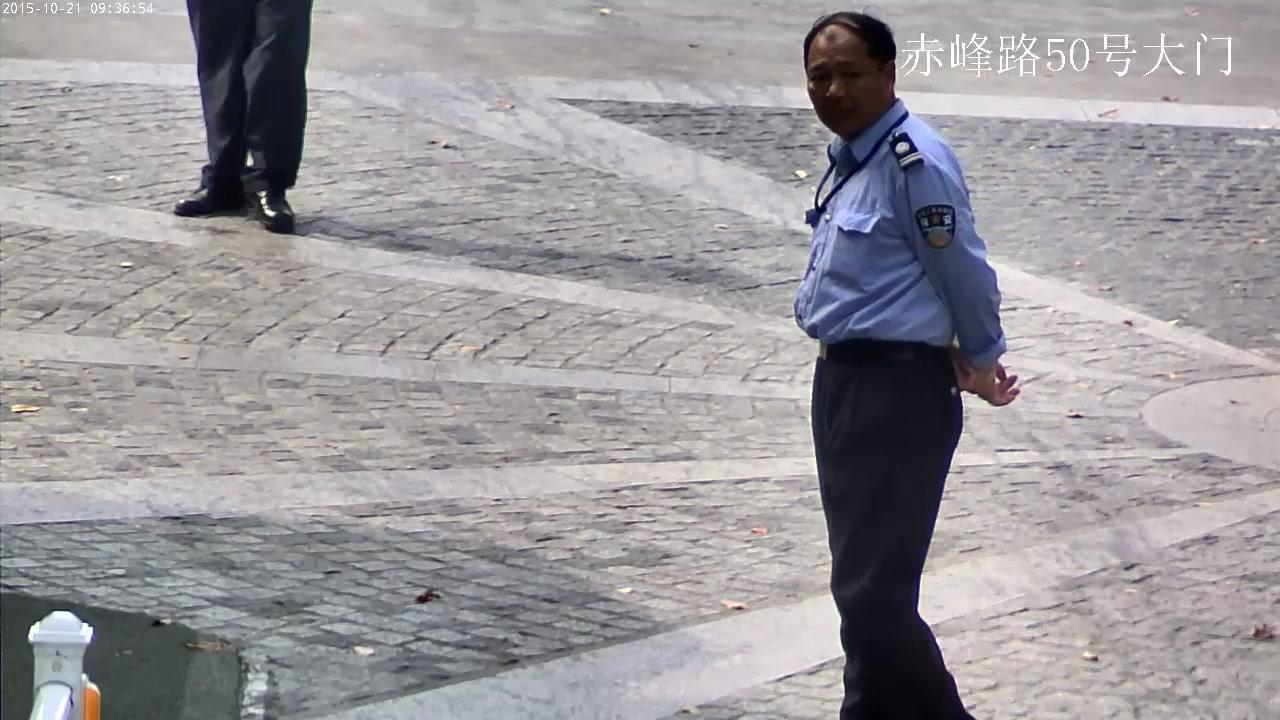face: (808, 28, 881, 136)
